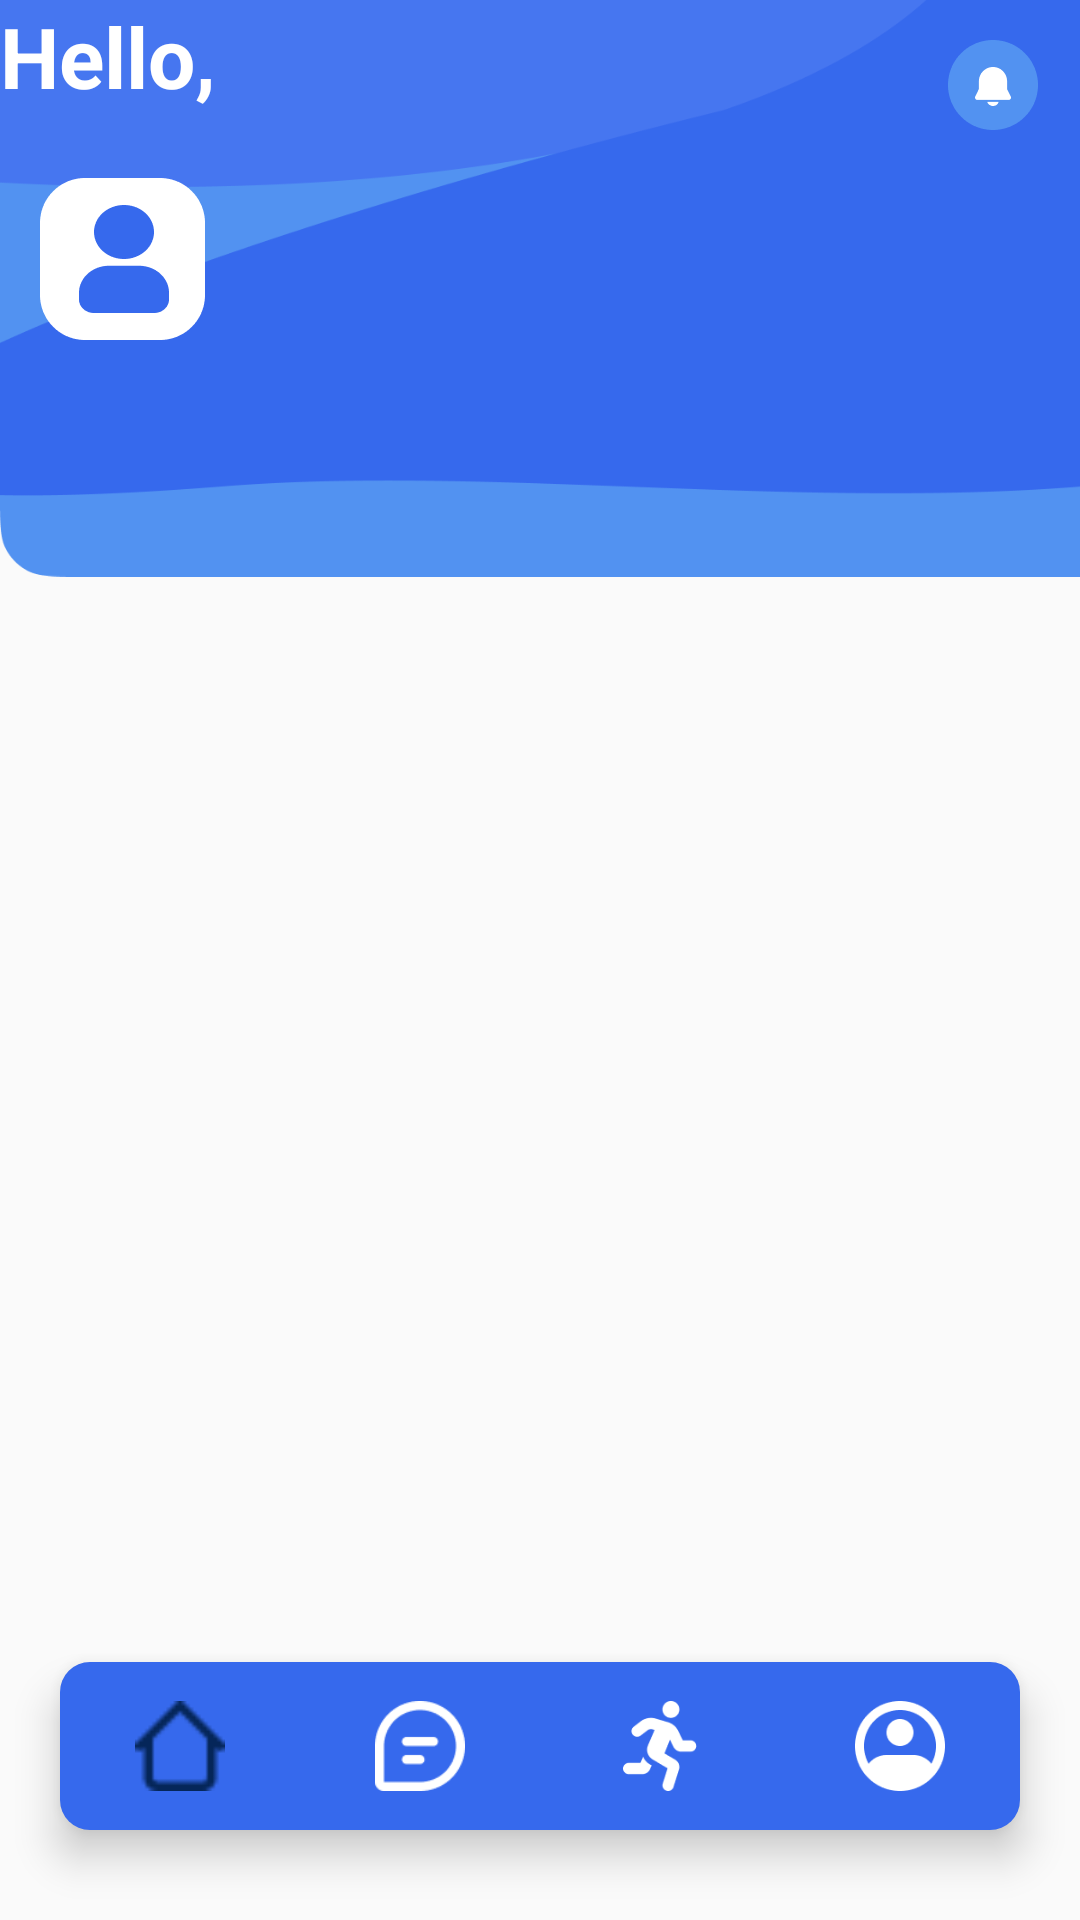

Where to tap for icons on this 1080x1920 app screen, as [x,y]:
noti user: [993,85]
user: [122,259]
